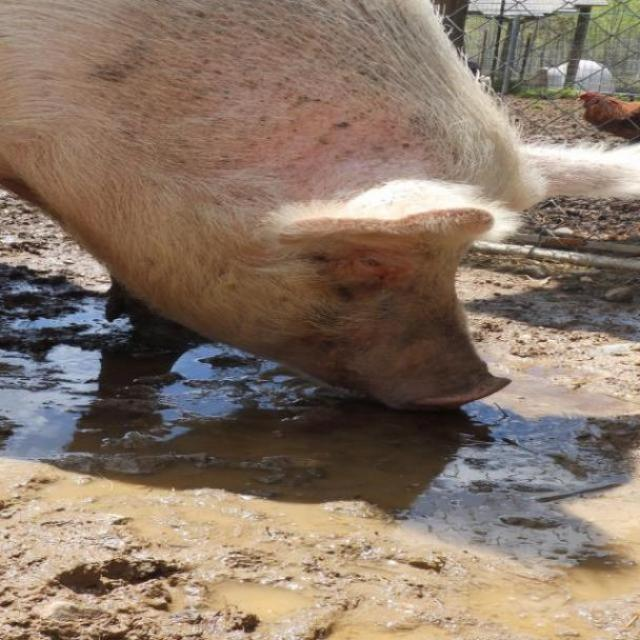Chicken: (581, 90, 640, 141)
